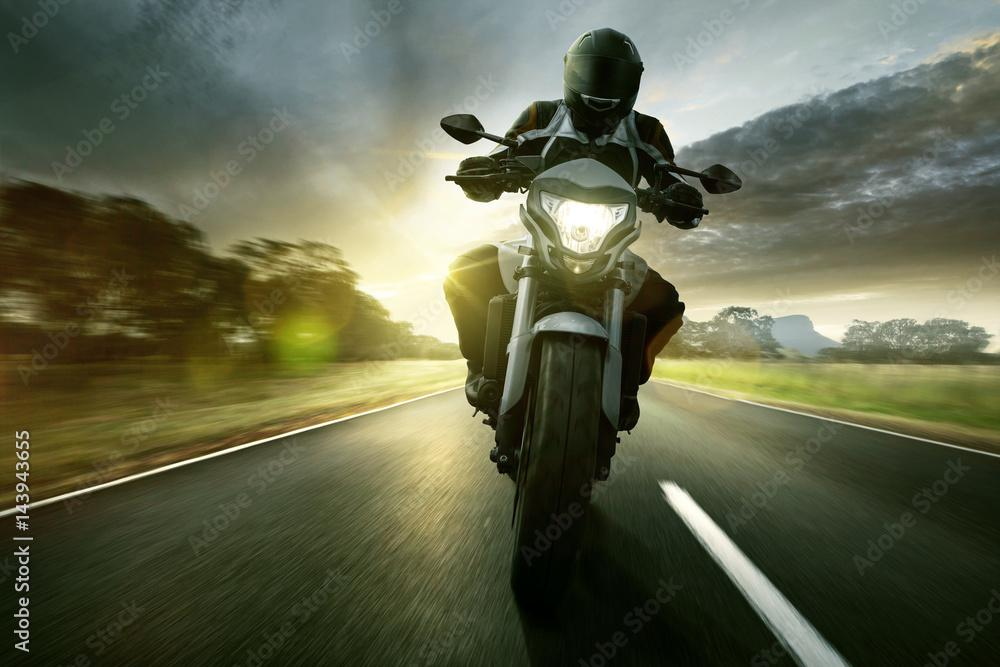helmet: (562, 26, 645, 137)
